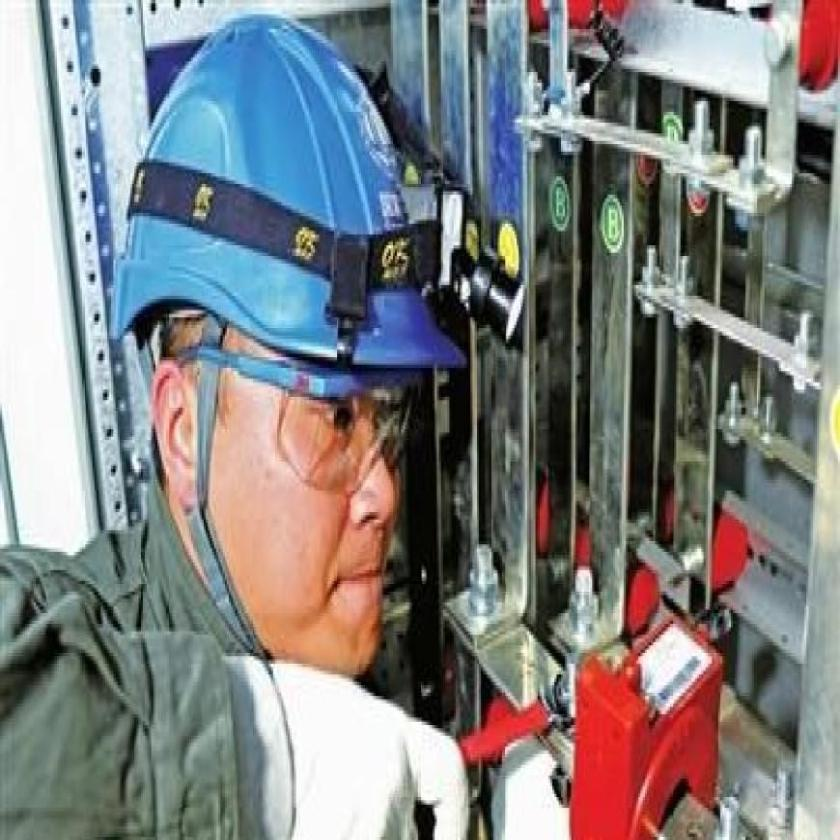Con_casco: (114, 15, 476, 700)
